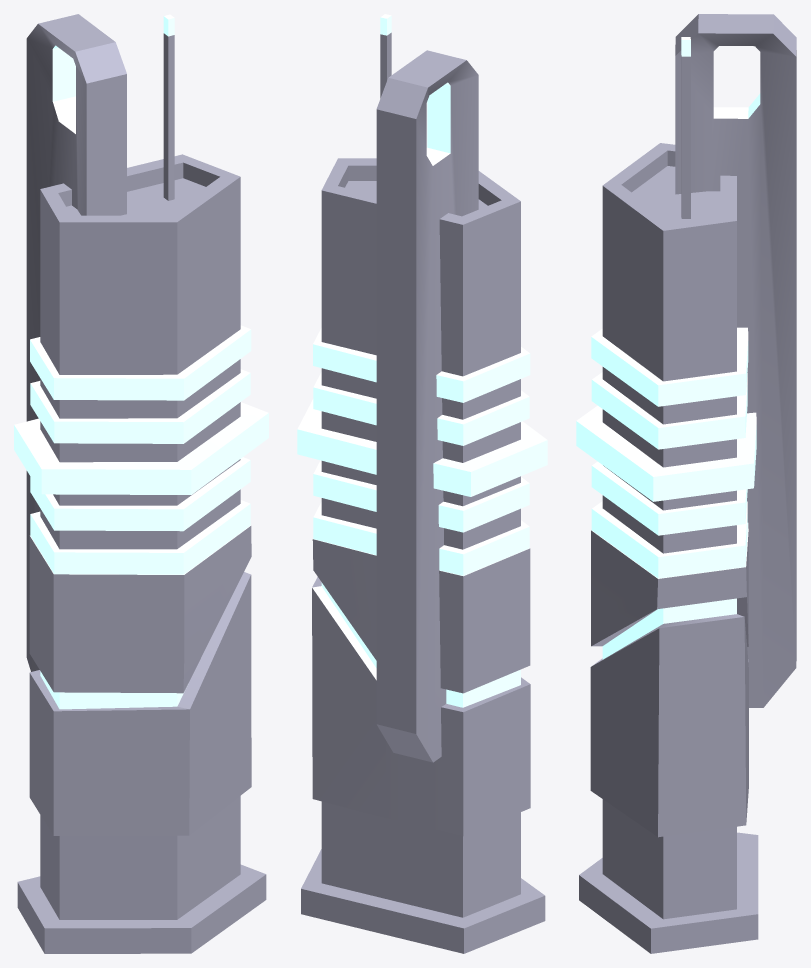
File: budova3.fbx
3 renders of one model, left to right at view 1: azimuth 30°, elevation 25°; view 2: azimuth 150°, elevation 25°; view 3: azimuth 270°, elevation 25°, orthographic.
Visible parts, largest first — view 1: Circle.004; view 2: Circle.004; view 3: Circle.004.
Part boxes in pixels (<box>): Circle.004: <box>14,14,268,953</box>; Circle.004: <box>297,14,547,953</box>; Circle.004: <box>576,14,796,953</box>.
Size of the model in its own units: 225 by 838 by 191.
